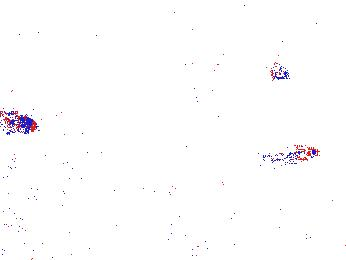X-ray fish: (104, 220, 139, 256), (1, 107, 33, 142), (259, 62, 294, 84)
red belly glassfish: (248, 142, 319, 168)
